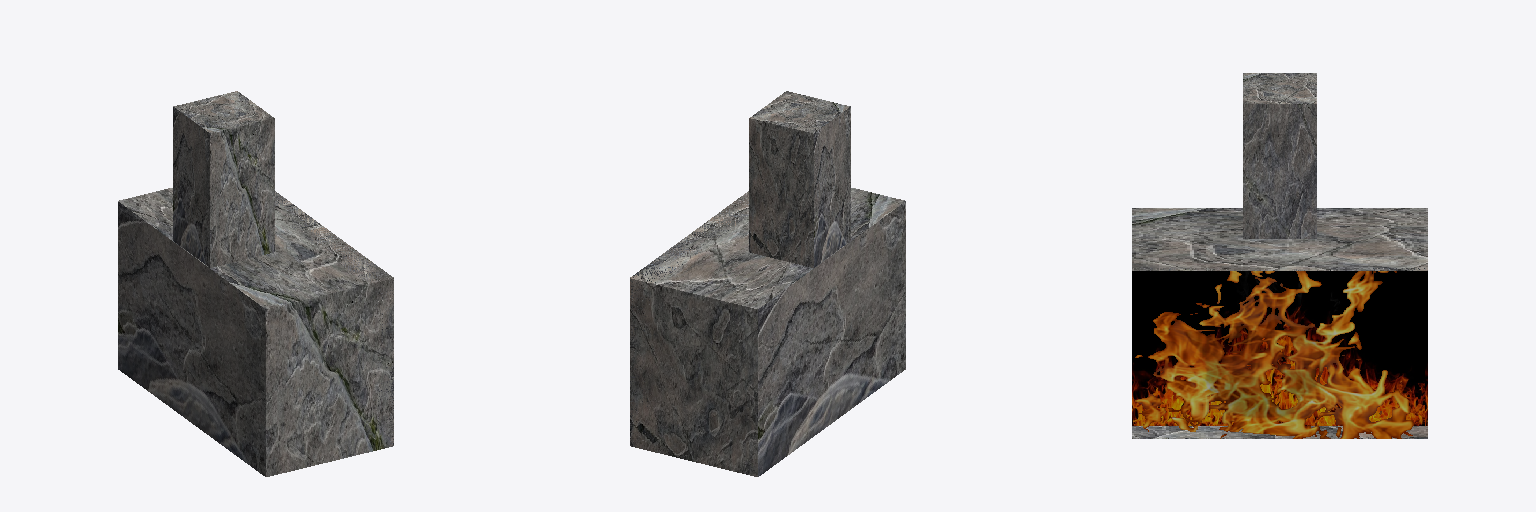
3 views of the same model, side by side, from view 1: azimuth 30°, elevation 25°; view 2: azimuth 150°, elevation 25°; view 3: azimuth 270°, elevation 25° (orthographic).
Parts seen in each view (by area): view 1: polySurface1; view 2: polySurface1; view 3: polySurface1.
Boxes of the visible parts, <box> form: polySurface1: <box>118,91,393,476</box>; polySurface1: <box>630,91,905,476</box>; polySurface1: <box>1132,73,1427,438</box>.
Size of the model in its own units: 100 by 226 by 200.
4 materials, 3 textured.